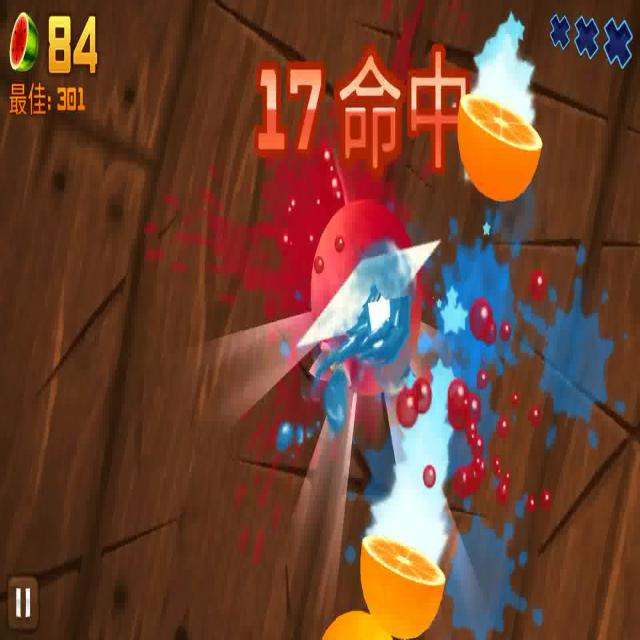fruit: (307, 201, 421, 365), (456, 93, 542, 200), (357, 531, 447, 631), (322, 606, 394, 640)
